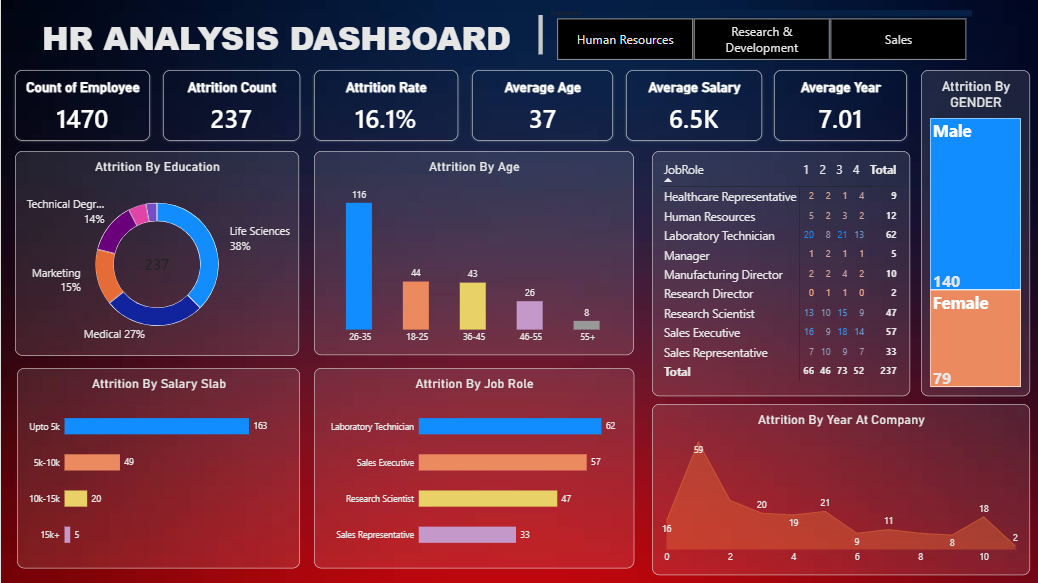

Layout of this report page (visuals, bound fields, positions):
{"tool":"powerbi","page":{"name":"Page 1","canvas":[1920,1080],"ordinal":0},"visuals":[{"type":"cardVisual","title":"Count of Employee","fields":{"Data":["CountNonNull(HR_Analytics.EmpID)"]},"box":[25.9,129.6,250,131.5],"z":0},{"type":"cardVisual","title":"Attrition Rate","fields":{"Data":["HR_Analytics.AttritionRate"]},"box":[579.5,129.6,266.6,131.5],"z":1000},{"type":"cardVisual","title":"Attrition Count","fields":{"Data":["Sum(HR_Analytics.AttritionCount)"]},"box":[299.5,129.9,253.6,130.8],"z":2000},{"type":"cardVisual","title":"Average Salary","fields":{"Data":["Avg(HR_Analytics.MonthlyIncome)"]},"box":[1157.2,129.6,251.8,131.5],"z":3000},{"type":"cardVisual","title":"Average Age","fields":{"Data":["Avg(HR_Analytics.Age)"]},"box":[872.1,129.6,261.1,131.5],"z":4000},{"type":"cardVisual","title":"Average Year","fields":{"Data":["Avg(HR_Analytics.YearsAtCompany)"]},"box":[1431.2,129.6,246.2,131.5],"z":5000},{"type":"donutChart","title":"Attrition By Education","fields":{"Category":["HR_Analytics.EducationField"],"Y":["Sum(HR_Analytics.AttritionCount)"]},"box":[26.8,279.2,525.9,378.6],"z":6000},{"type":"columnChart","title":"Attrition By Age","fields":{"Category":["HR_Analytics.AgeGroup"],"Y":["Sum(HR_Analytics.AttritionCount)"]},"box":[579.5,279.6,592.5,377.7],"z":7000},{"type":"pivotTable","fields":{"Values":["Sum(HR_Analytics.AttritionCount)"],"Columns":["HR_Analytics.JobSatisfaction"],"Rows":["HR_Analytics.JobRole"]},"box":[1205.3,279.6,477.7,453.6],"z":8000},{"type":"barChart","title":"Attrition By Salary Slab","fields":{"Category":["HR_Analytics.SalarySlab"],"Y":["Sum(HR_Analytics.AttritionCount)"]},"box":[29.6,681.4,524,371],"z":9000},{"type":"barChart","title":"Attrition By Job Role","fields":{"Y":["Sum(HR_Analytics.AttritionCount)"],"Category":["HR_Analytics.JobRole"]},"box":[579.5,681.4,592.8,371],"z":10000},{"type":"areaChart","title":"Attrition By Year At Company","fields":{"Y":["Sum(HR_Analytics.AttritionCount)"],"Category":["HR_Analytics.YearsAtCompany"]},"box":[1205.3,748,699.9,316.6],"z":11000},{"type":"treemap","title":"Attrition By GENDER","fields":{"Values":["Sum(HR_Analytics.AttritionCount)"],"Group":["HR_Analytics.Gender"]},"box":[1703.4,129.6,201.8,603.6],"z":12000},{"type":"slicer","fields":{"Values":["HR_Analytics.Department"]},"box":[1009.1,18.5,797.5,93.7],"z":13000},{"type":"textbox","box":[24.1,27.8,979.1,78.4],"z":14000}]}

Visuals, with their boxes in screenshot pixels (x1, y1, x2, y2), scaled from the page's 1920x1080 canvas onto the 1038x583 screenshot:
"Count of Employee" cardVisual: locate(14, 70, 149, 141)
"Attrition Rate" cardVisual: locate(313, 70, 457, 141)
"Attrition Count" cardVisual: locate(162, 70, 299, 141)
"Average Salary" cardVisual: locate(626, 70, 762, 141)
"Average Age" cardVisual: locate(471, 70, 613, 141)
"Average Year" cardVisual: locate(774, 70, 907, 141)
"Attrition By Education" donutChart: locate(14, 151, 299, 355)
"Attrition By Age" columnChart: locate(313, 151, 634, 355)
pivotTable - Sum(HR_Analytics.AttritionCount) x HR_Analytics.JobSatisfaction: locate(652, 151, 910, 396)
"Attrition By Salary Slab" barChart: locate(16, 368, 299, 568)
"Attrition By Job Role" barChart: locate(313, 368, 634, 568)
"Attrition By Year At Company" areaChart: locate(652, 404, 1030, 575)
"Attrition By GENDER" treemap: locate(921, 70, 1030, 396)
slicer - HR_Analytics.Department: locate(546, 10, 977, 61)
textbox: locate(13, 15, 542, 57)
